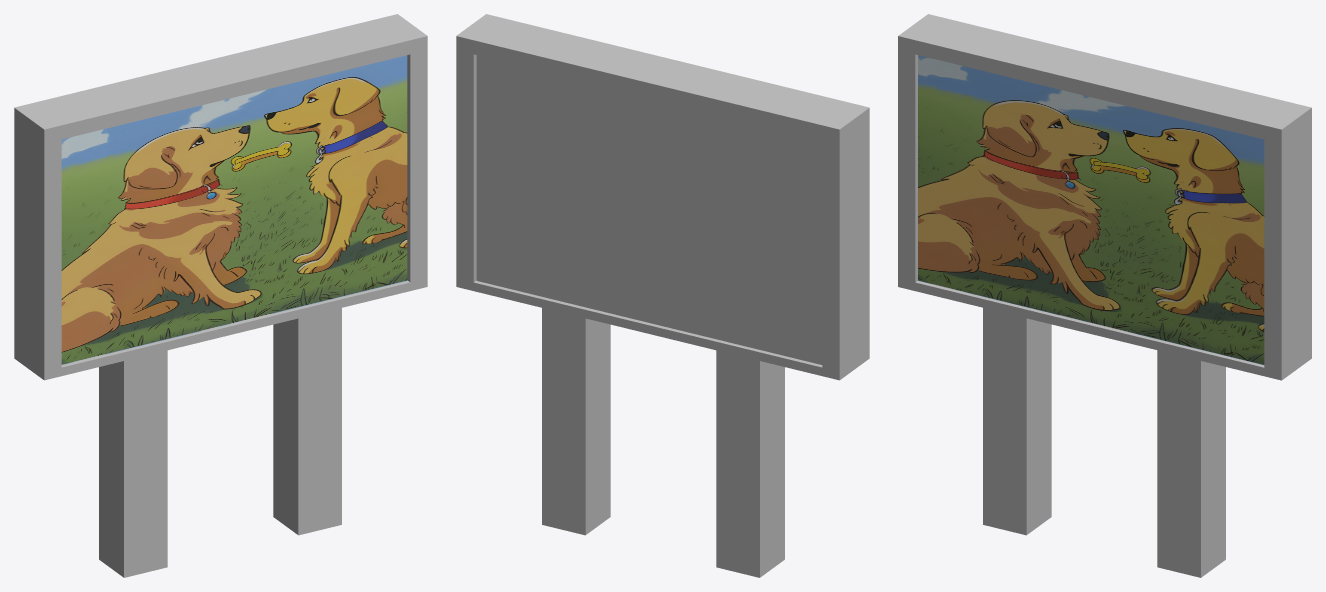
File: DogsFightText.fbx
3 views of the same model, side by side, from view 1: azimuth 30°, elevation 25°; view 2: azimuth 150°, elevation 25°; view 3: azimuth 330°, elevation 25° (orthographic).
Visible parts, largest first — view 1: pCube3, polySurface1, pCube2, pCube1; view 2: pCube3, polySurface1, pCube2, pCube1; view 3: pCube3, polySurface1, pCube1, pCube2.
Boxes of the visible parts, <box> form: pCube3: <box>61,55,407,364</box>; polySurface1: <box>14,14,427,380</box>; pCube2: <box>99,350,167,577</box>; pCube1: <box>273,308,341,535</box>; pCube3: <box>476,55,822,364</box>; polySurface1: <box>456,14,869,380</box>; pCube2: <box>716,350,784,577</box>; pCube1: <box>542,308,610,535</box>; pCube3: <box>918,55,1264,364</box>; polySurface1: <box>898,14,1311,380</box>; pCube1: <box>1157,350,1225,577</box>; pCube2: <box>983,308,1051,535</box>.
Bounding box in the file's own units: 8.8 × 10.31 × 1.2.
